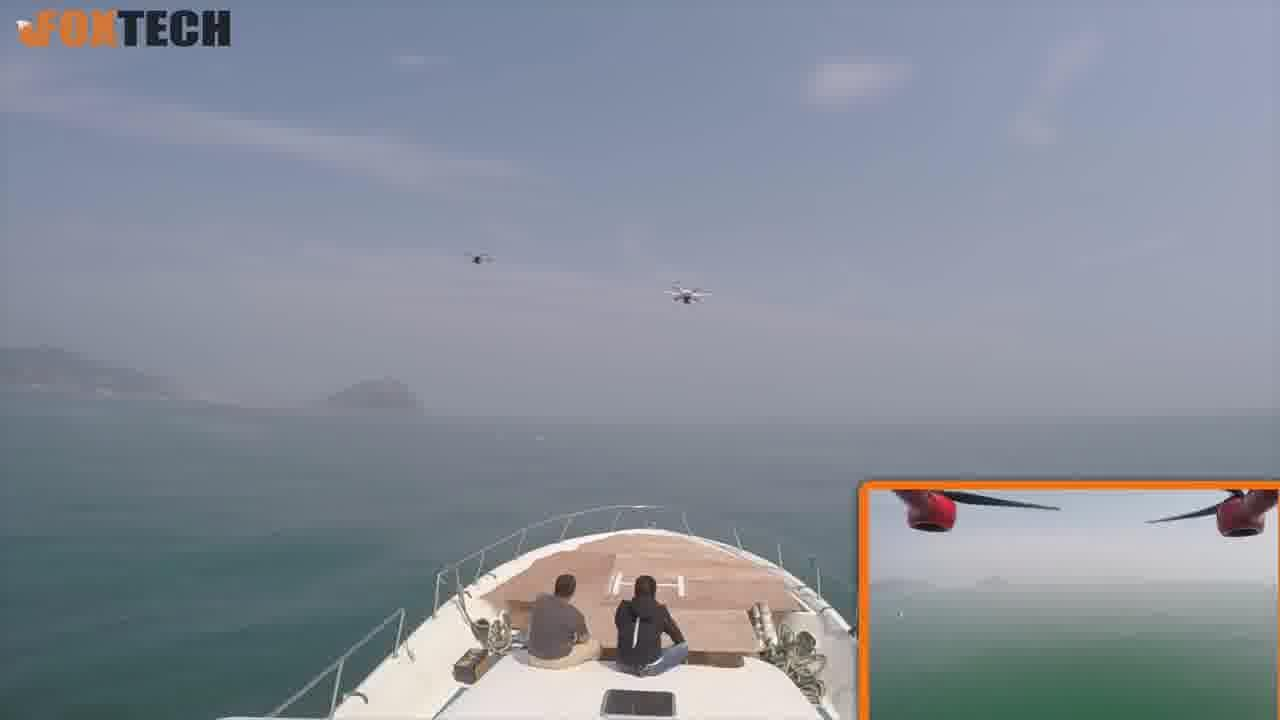drone: (664, 278, 716, 311)
